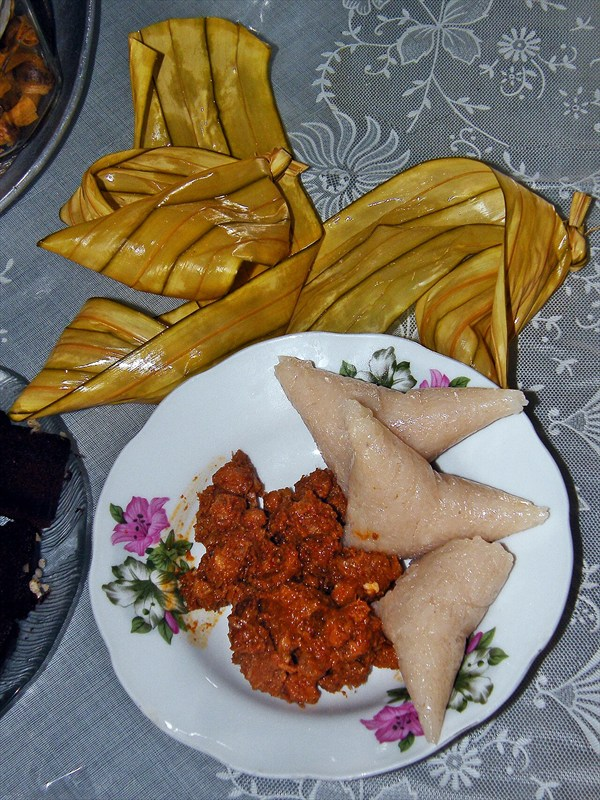Rendang: (80, 79, 561, 695)
